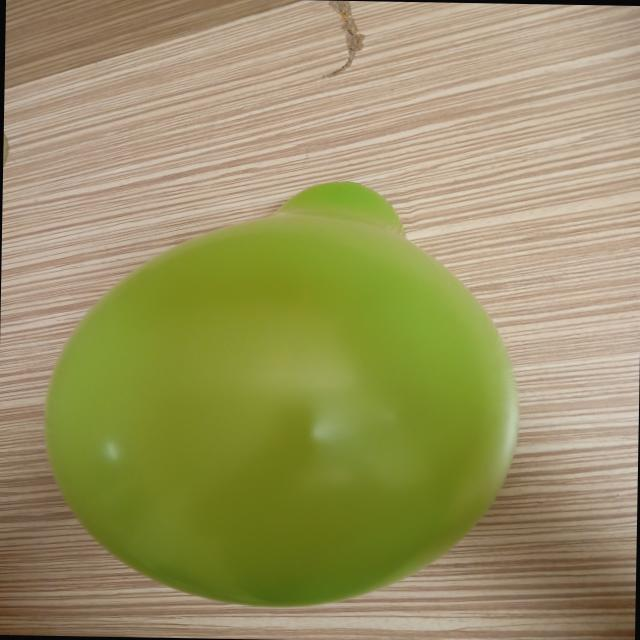balloon: (45, 181, 518, 606)
